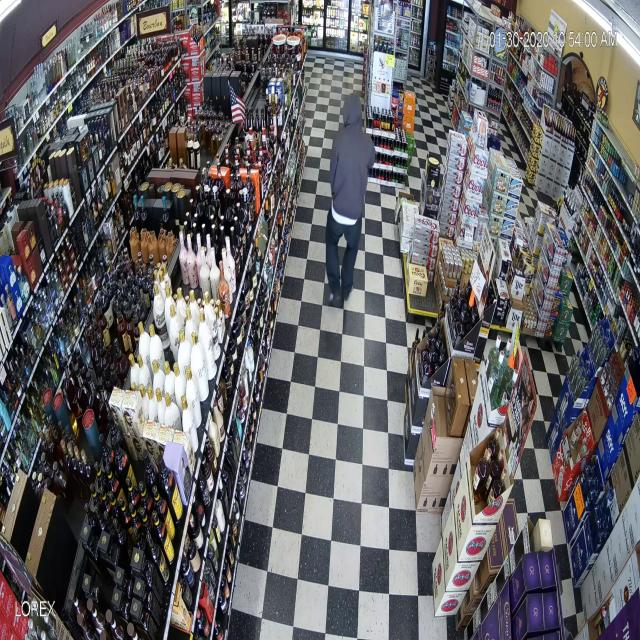normal: (301, 64, 383, 335)
